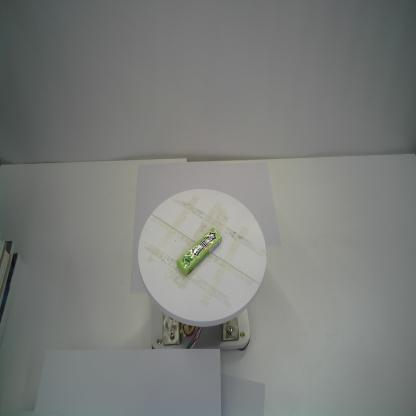Gum: (176, 226, 222, 277)
